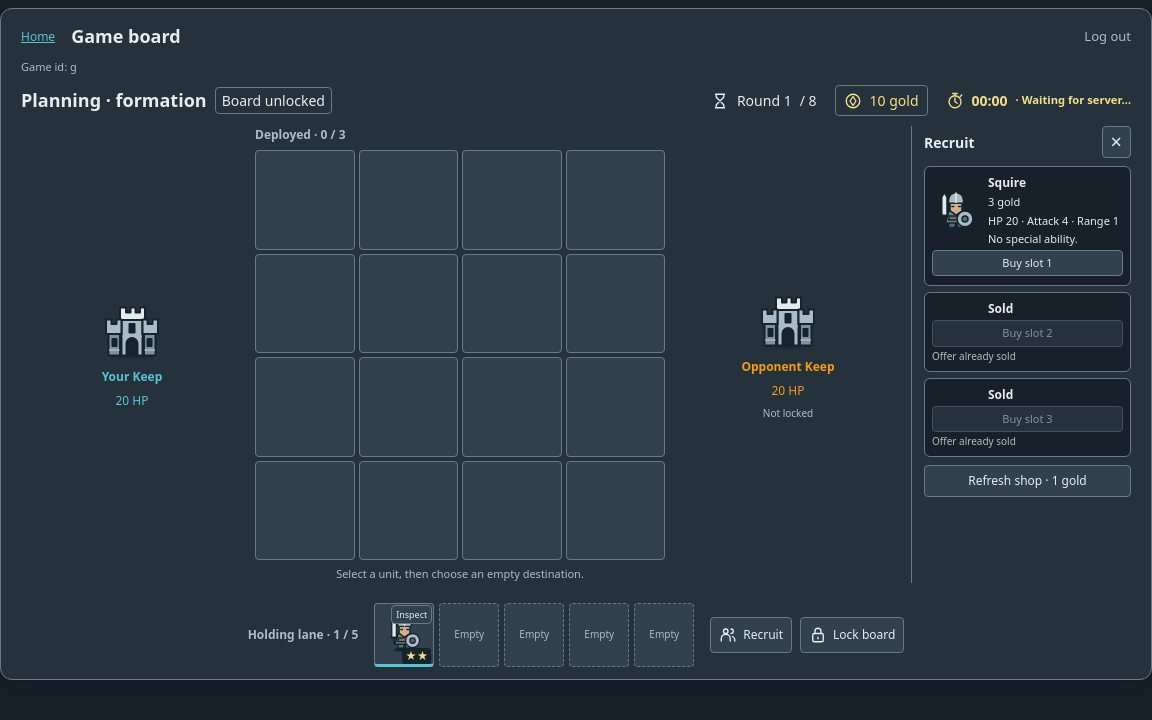
Test: locks on the first click and clears selection after success
Click the button named "Select Squire u1": [404, 634] box [374,602,434,666]
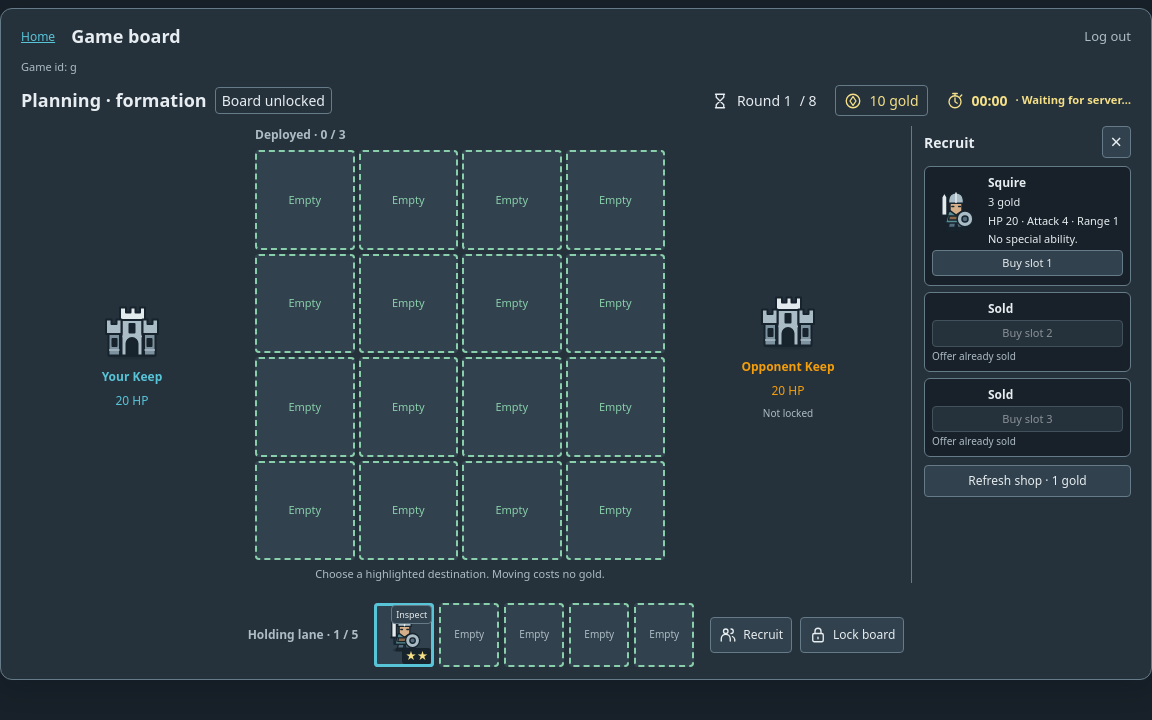
Click the button "Lock board": [852, 634] box [800,616,904,652]
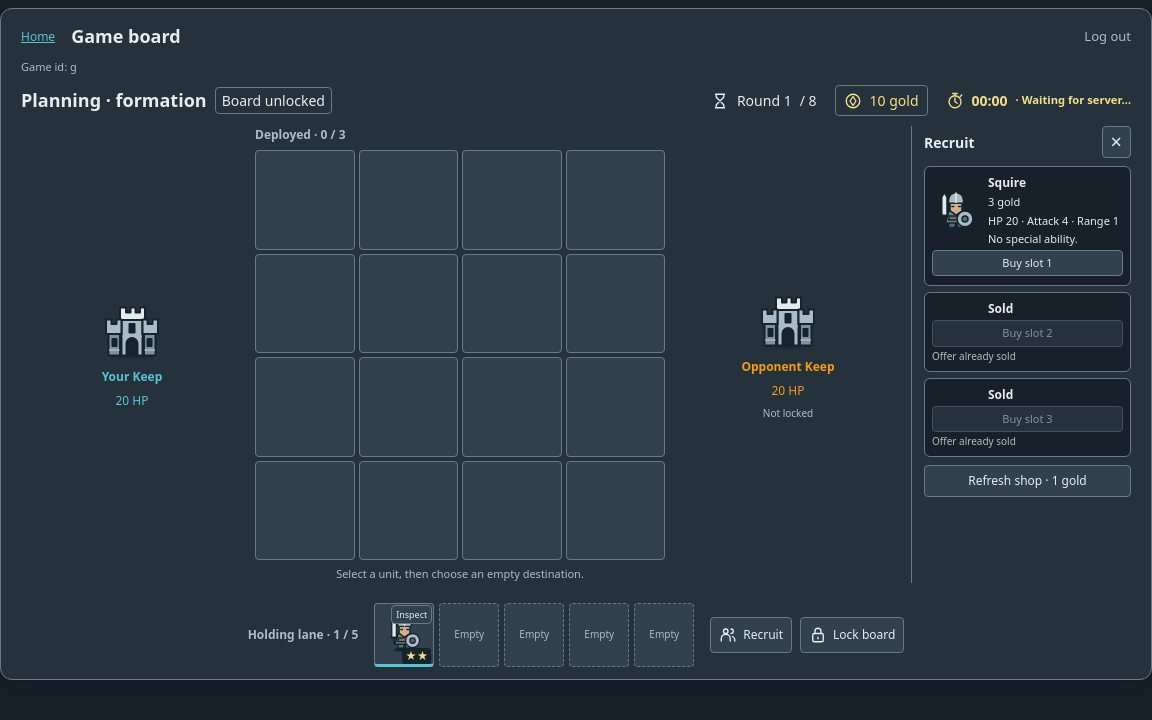
Expected: the text "Select a unit, then choose an empty destination." is shown, [336,566,584,582]
